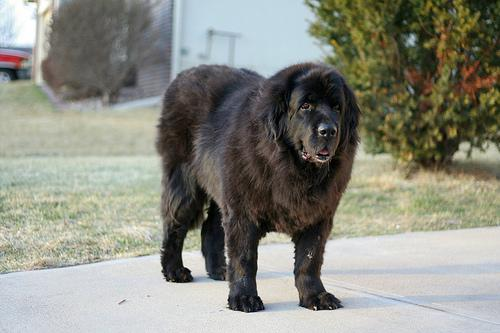dog-newfoundland: (262, 66, 357, 163)
